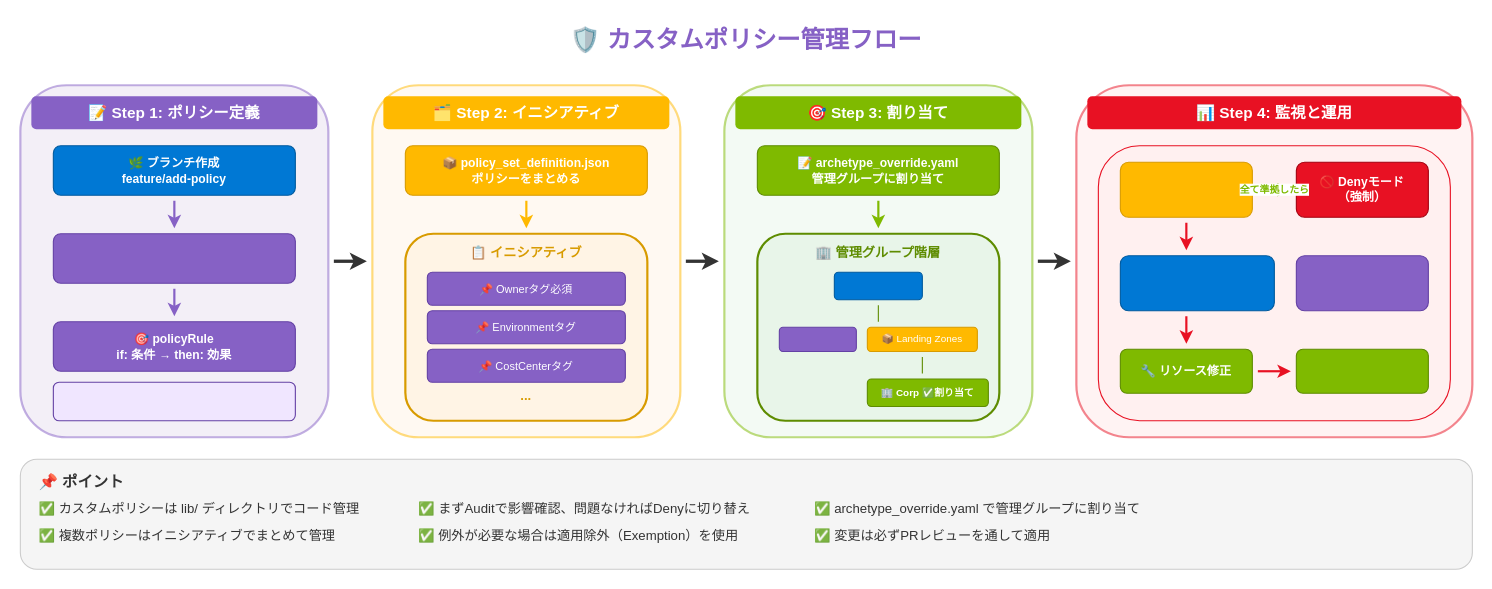
Image size: 1492x589. Some labels were removed from this diagram. The shapes that lost their labels are listed below. From the top down, each one's centre as x and y in pixels, then its label:
the point at 1185,189: 👁️ Auditモード （監査のみ）
the point at 173,258: 📄 policy_definition.json ポリシールールを定義
the point at 877,285: 🌳 Root
the point at 1196,283: 🔍 非準拠リソース確認 Azure Policy → コンプライアンス
the point at 1361,283: 🎫 適用除外 （例外ケース）
the point at 817,338: ⚙️ Platform
the point at 1361,370: ✅ 完了
the point at 173,401: ⚙️ effect: Audit / Deny / Disabled
